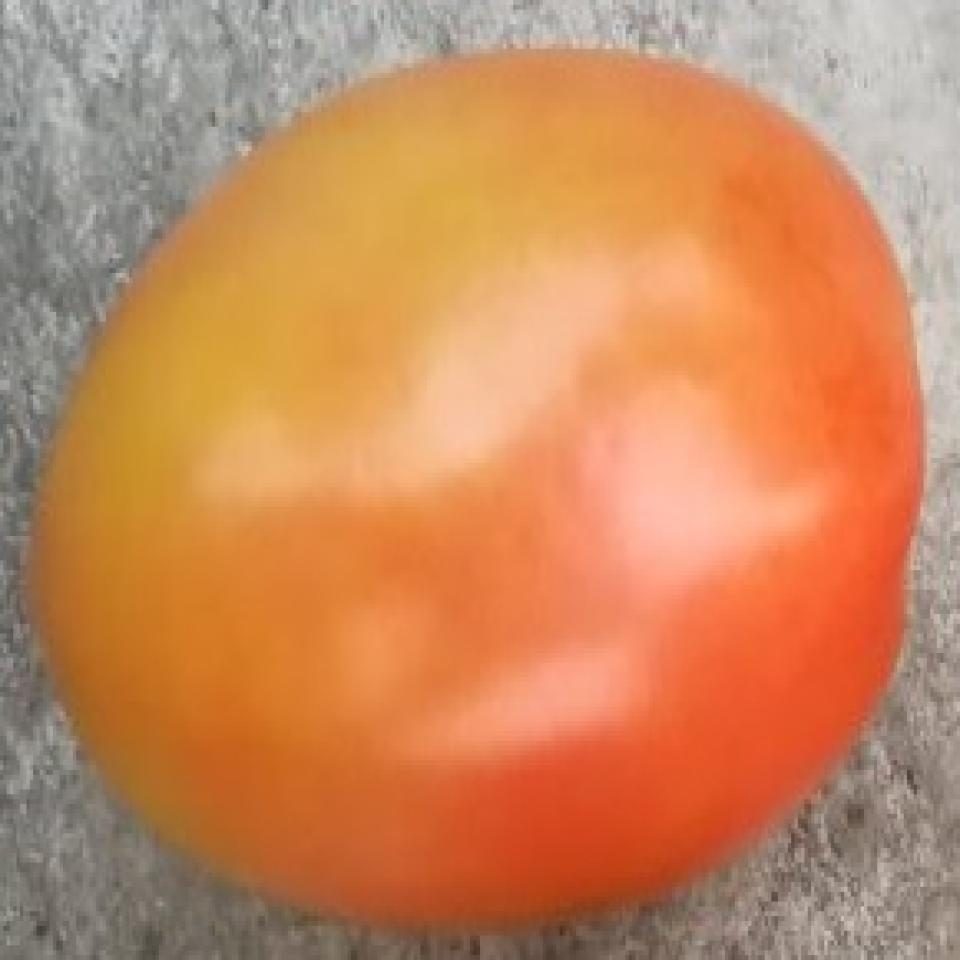Spotted wilt Virus: (26, 49, 924, 921)
